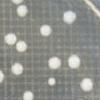white: (62, 8, 78, 26), (47, 55, 63, 71), (78, 77, 94, 93), (13, 39, 28, 53), (11, 62, 25, 77), (16, 4, 30, 18), (68, 54, 80, 70), (38, 24, 52, 37), (4, 33, 17, 46), (22, 88, 36, 100), (47, 76, 58, 88), (0, 67, 5, 84), (12, 0, 25, 6)
